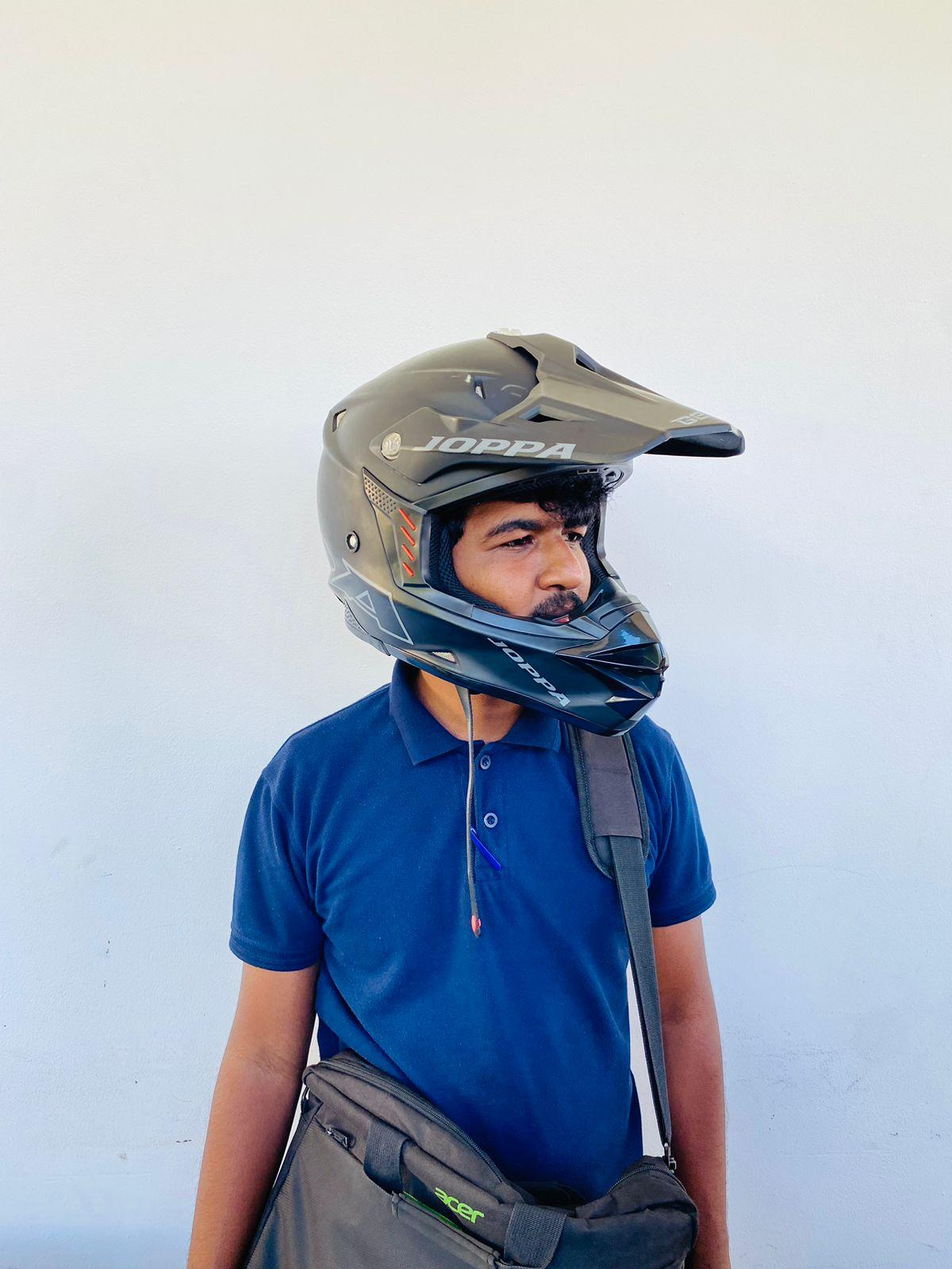helmet: (302, 326, 761, 743)
